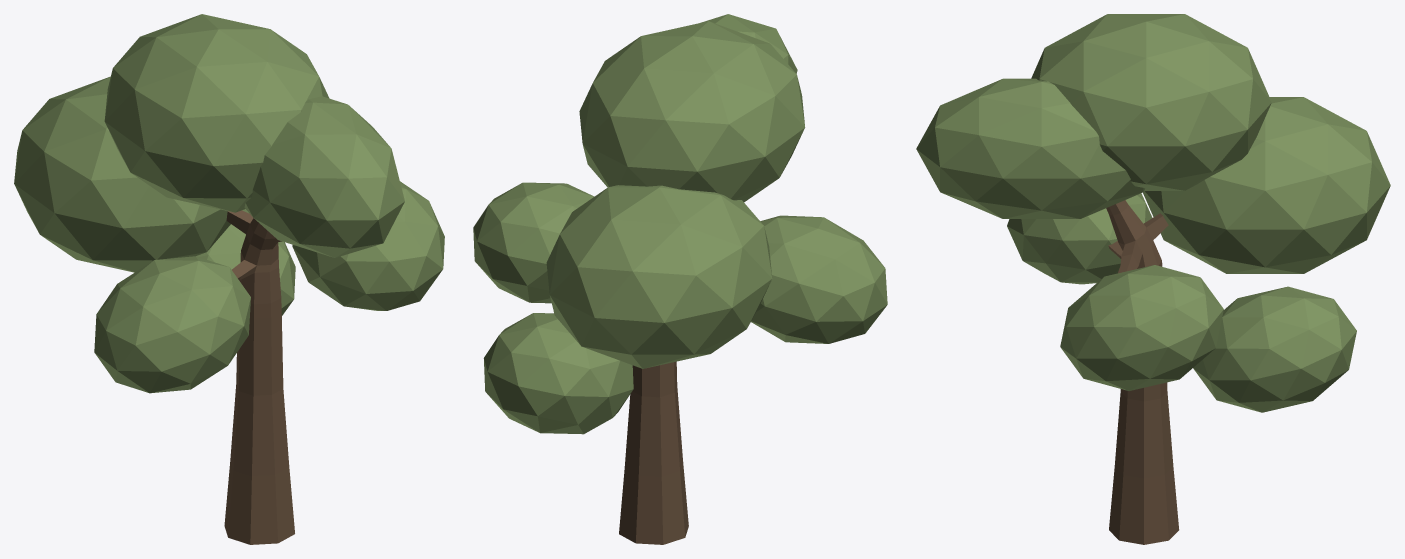
Rendered from tree.glb.
3 renders of one model, left to right at view 1: azimuth 30°, elevation 25°; view 2: azimuth 150°, elevation 25°; view 3: azimuth 270°, elevation 25°, orthographic. The views are drawn at different scales.
Visible parts, largest first — view 1: tree; view 2: tree; view 3: tree.
Part boxes in pixels (x1=…): tree: x1=14, y1=14, x2=444, y2=544; tree: x1=473, y1=14, x2=887, y2=544; tree: x1=916, y1=14, x2=1390, y2=544.
Size of the model in its own units: 11.37 by 15.36 by 13.49.
